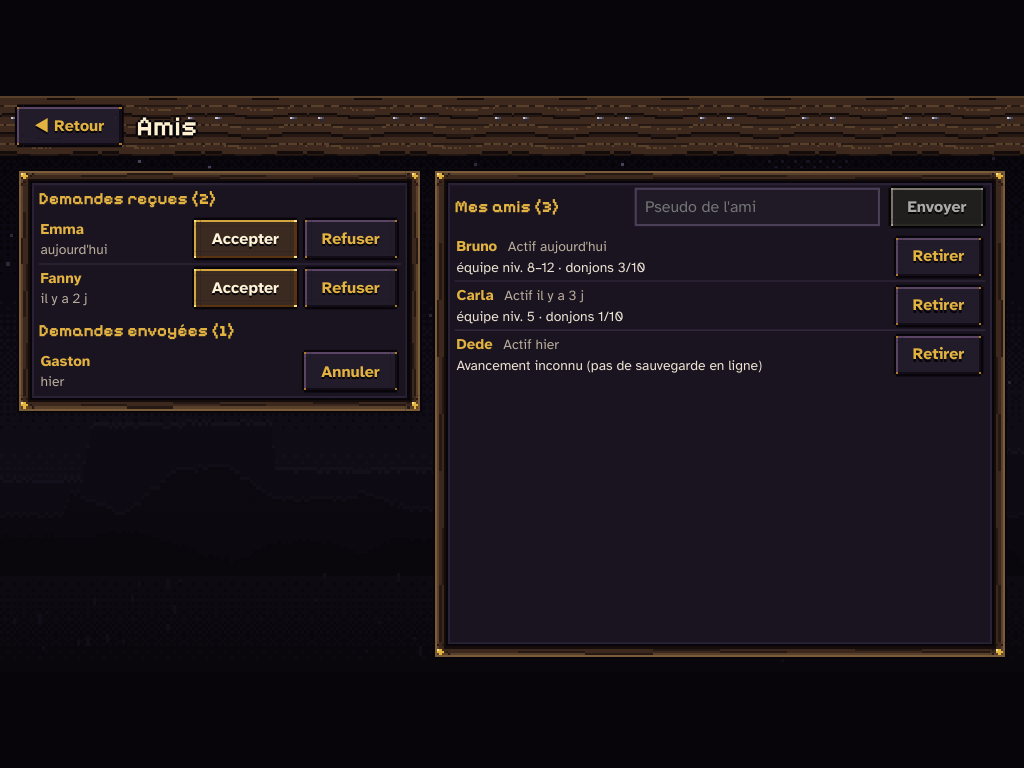
it: écran « Amis » › retire un ami seulement après confirmation
Click the button "Retirer" in the row of "Carla".
click(938, 306)  # box [894,284,984,327]
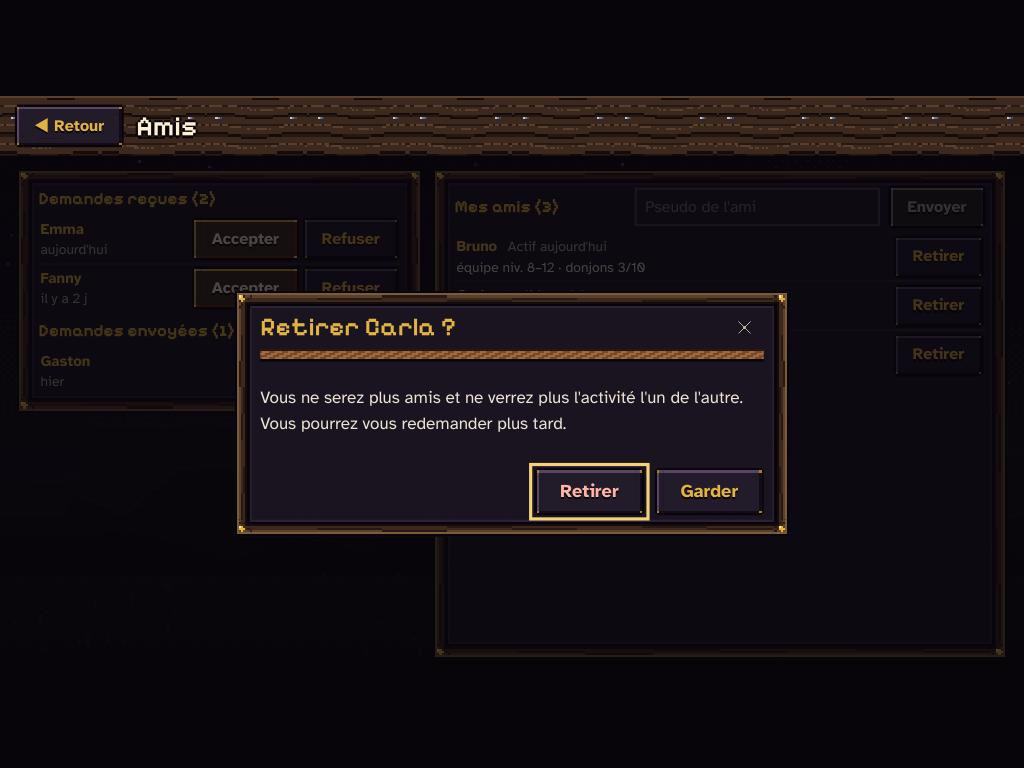
Click the button "Garder".
click(709, 492)  # box [655,468,764,515]
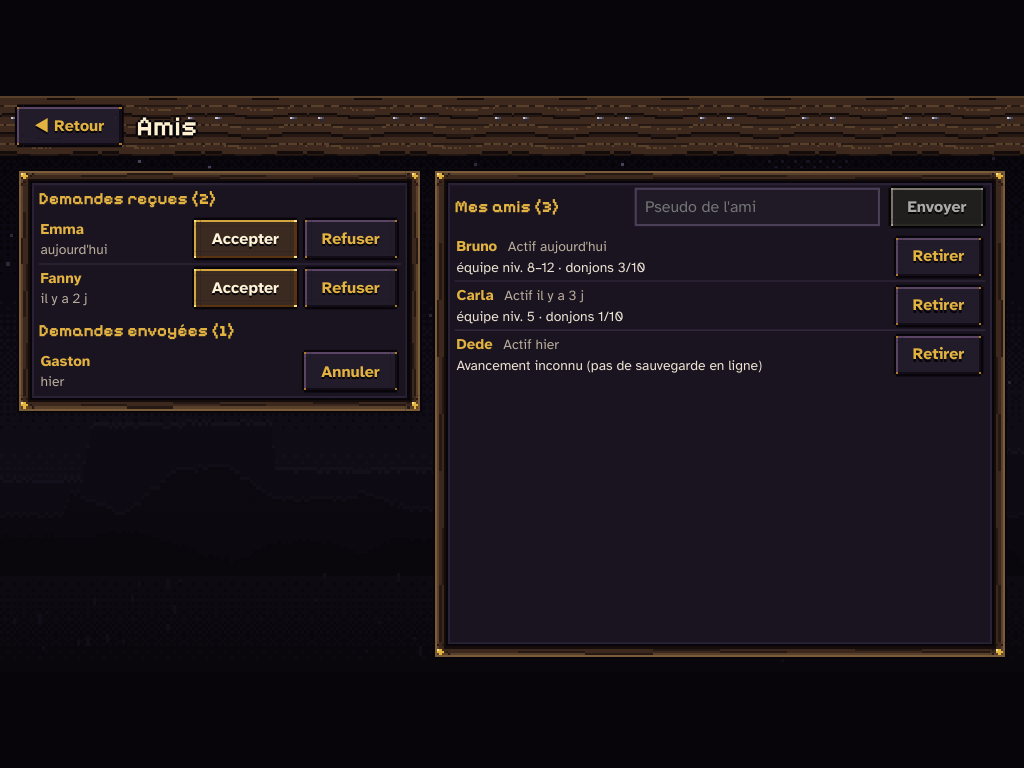
Expected: the dialog is gone
Click the button "Retirer" in the row of "Carla".
click(938, 306)  # box [894,284,984,327]
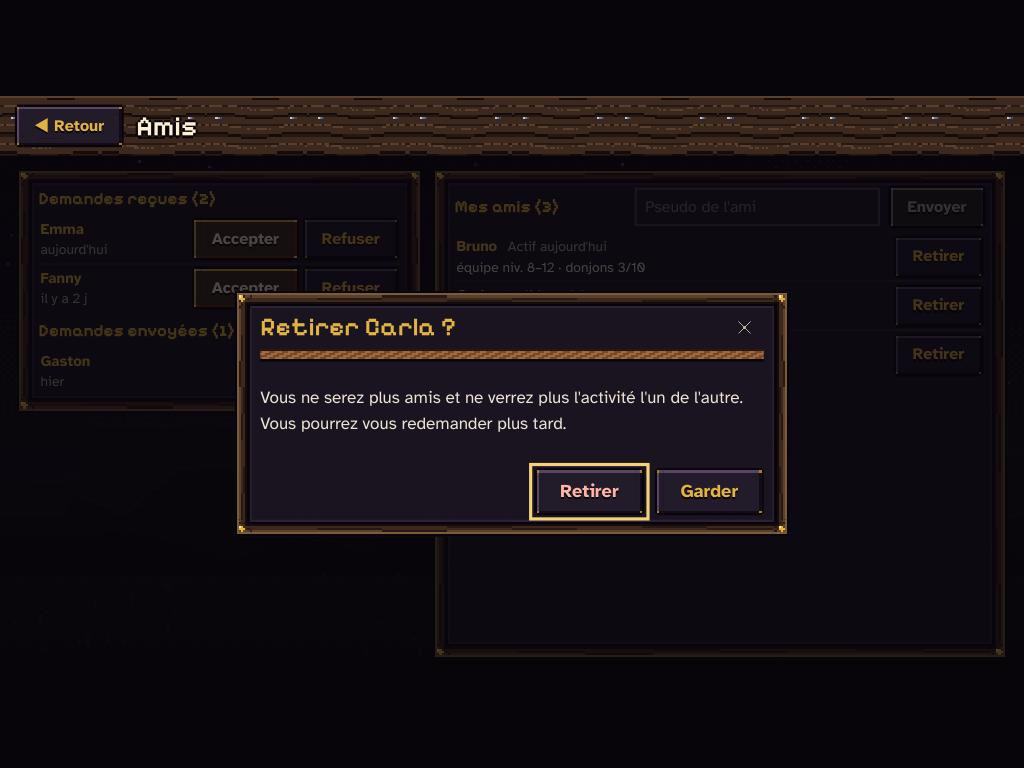
Click the button "Retirer".
click(589, 492)  # box [535,468,644,515]
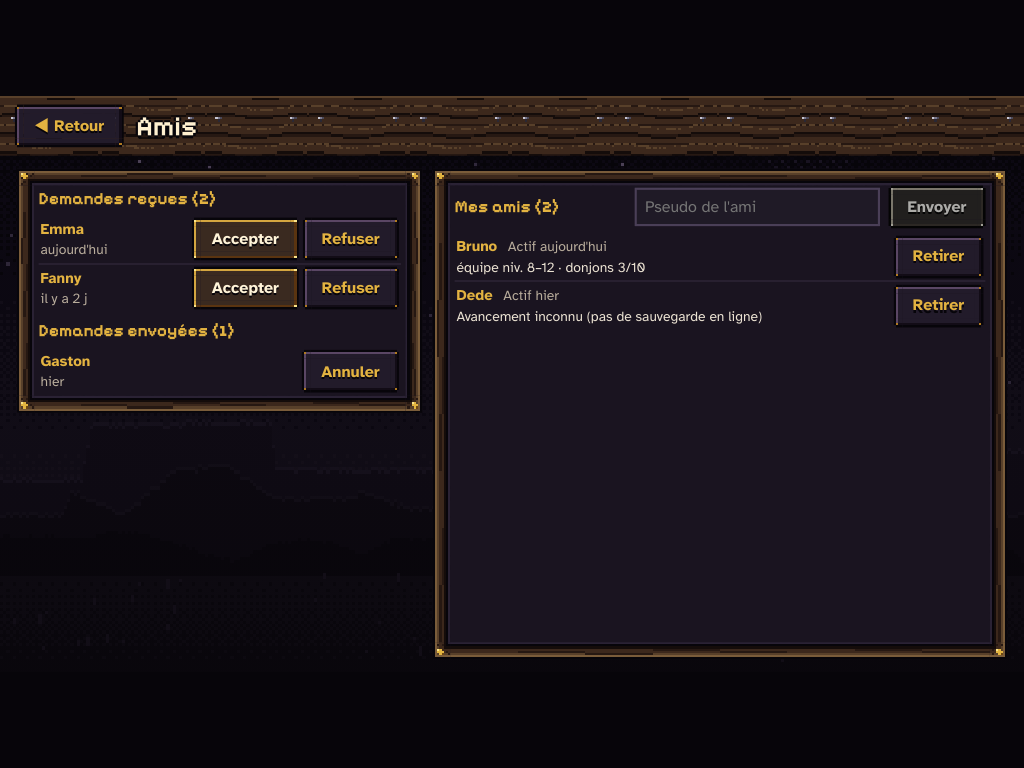
Expected: the text "Carla" is gone
Expected: the dialog is gone
